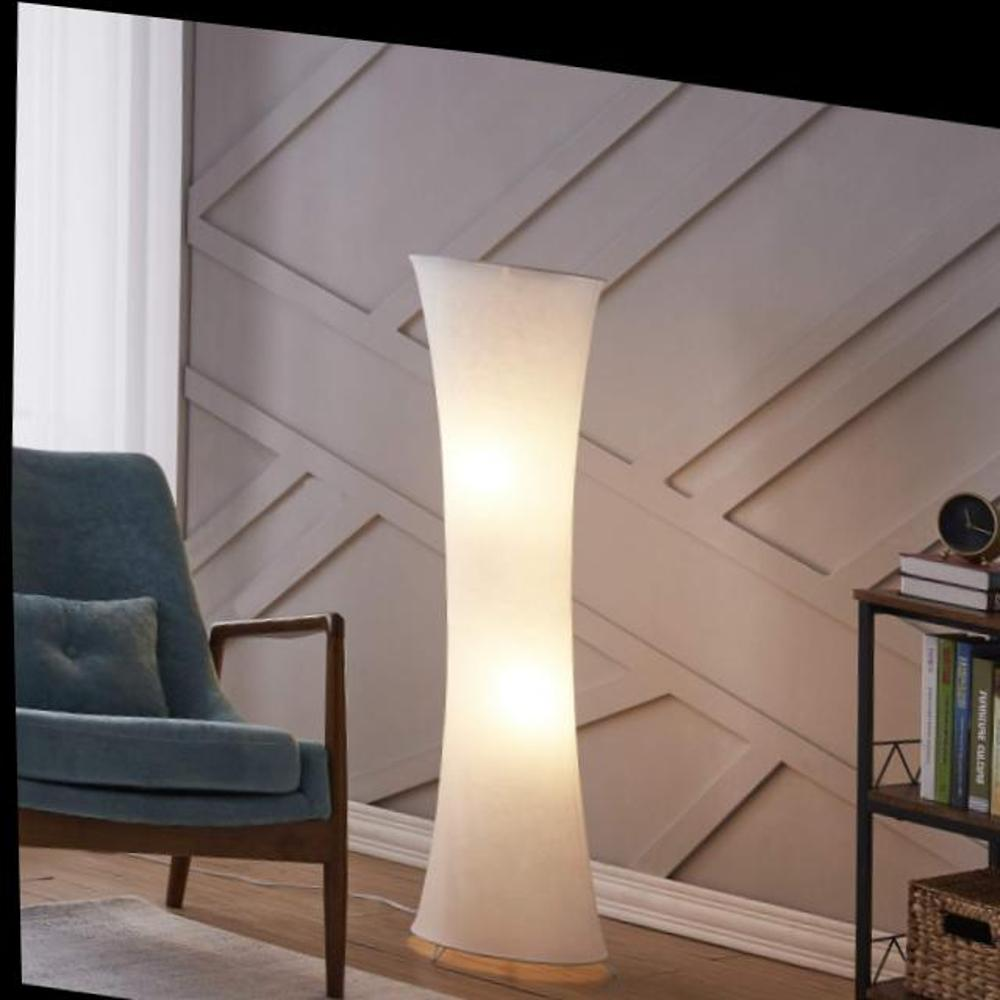shelf: (367, 178, 661, 1000)
